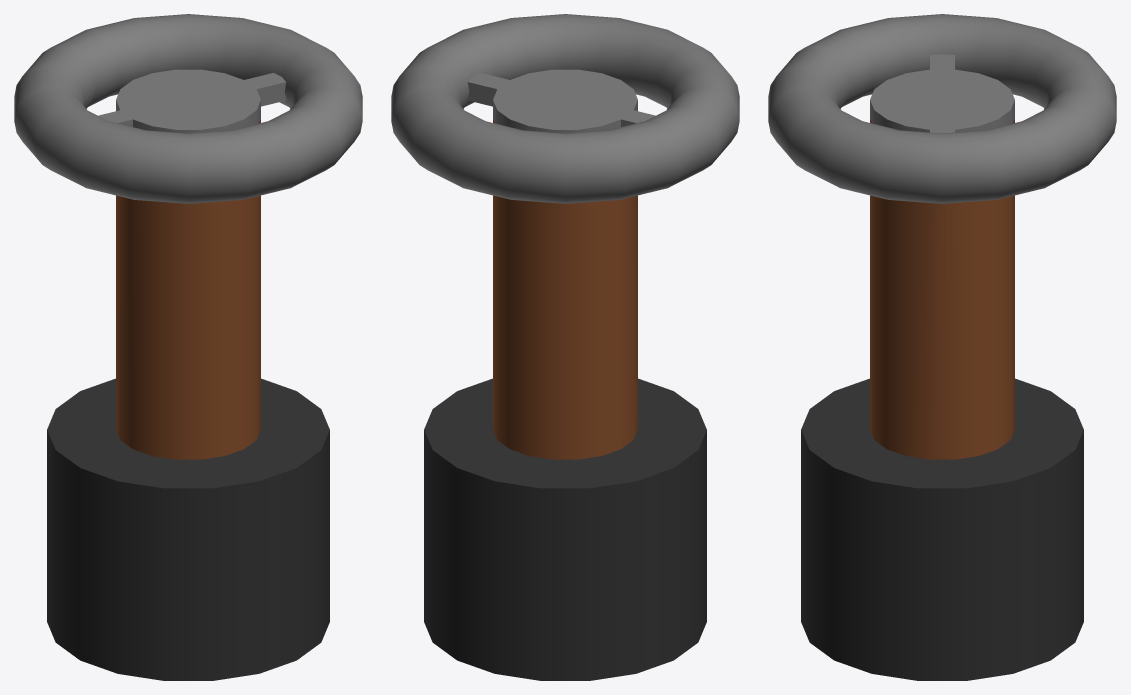
Rendered from TeslaCoil.glb.
3 renders of one model, left to right at view 1: azimuth 30°, elevation 25°; view 2: azimuth 150°, elevation 25°; view 3: azimuth 270°, elevation 25°, orthographic.
Visible parts, largest first — view 1: teslaCoil.001; view 2: teslaCoil.001; view 3: teslaCoil.001.
Part boxes in pixels (x1=…): teslaCoil.001: x1=14, y1=14, x2=362, y2=680; teslaCoil.001: x1=391, y1=14, x2=739, y2=680; teslaCoil.001: x1=768, y1=14, x2=1116, y2=680.
Size of the model in its own units: 0.5894 by 1 by 0.5804.
Materials: 1 (1 with a texture image).
